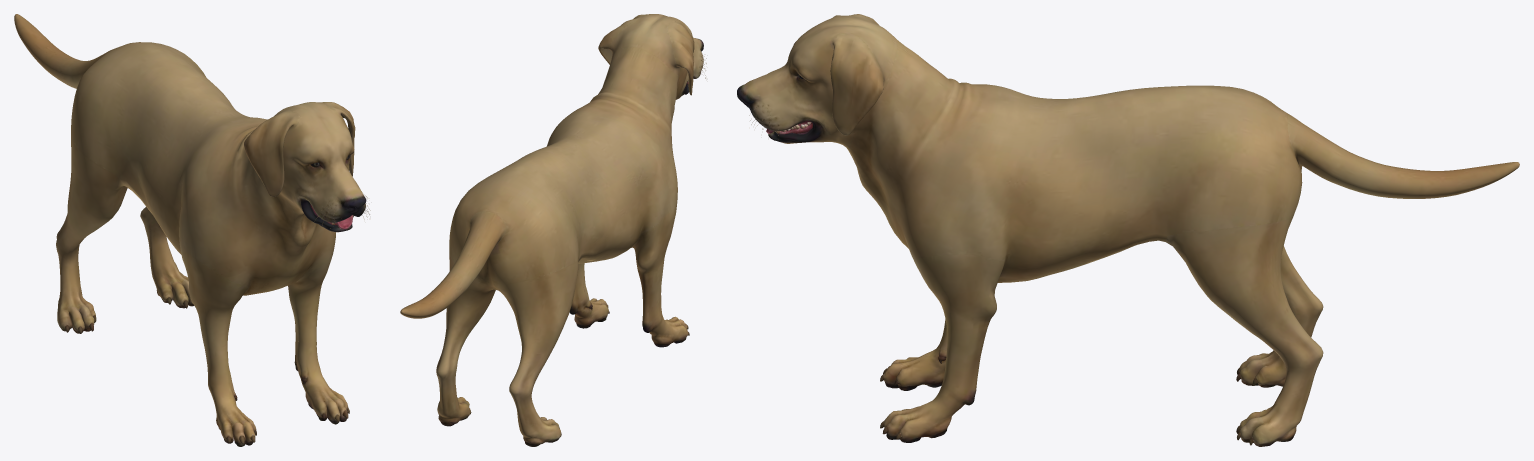
The model's file is dog-detailed.glb.
The picture shows the model from 3 angles, left to right: view 1: azimuth 30°, elevation 25°; view 2: azimuth 150°, elevation 25°; view 3: azimuth 270°, elevation 25°; orthographic projection. The views are drawn at different scales.
Parts seen in each view (by area): view 1: Object_0; view 2: Object_0; view 3: Object_0.
Boxes of the visible parts, x1,y1,x2,y2 form: Object_0: (14,14,370,446); Object_0: (400,14,706,446); Object_0: (737,14,1519,446).
Bounding box in the file's own units: 0.1523 × 0.3567 × 0.65.
1 material, 1 textured.
